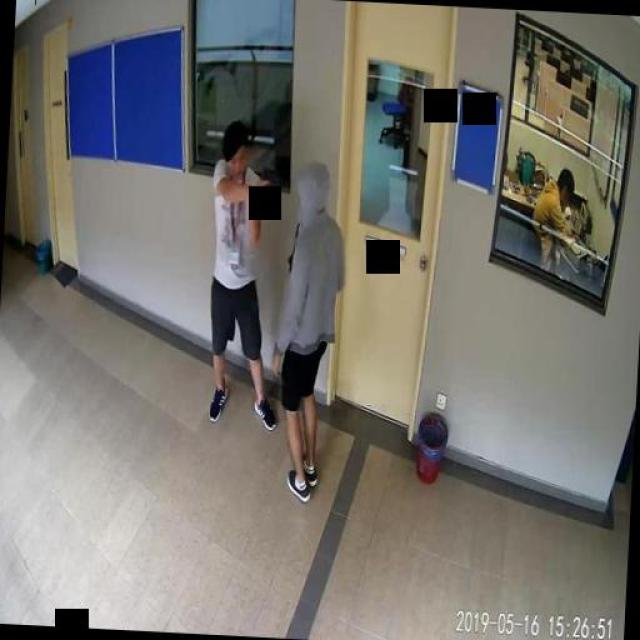gun: (256, 165, 285, 203)
